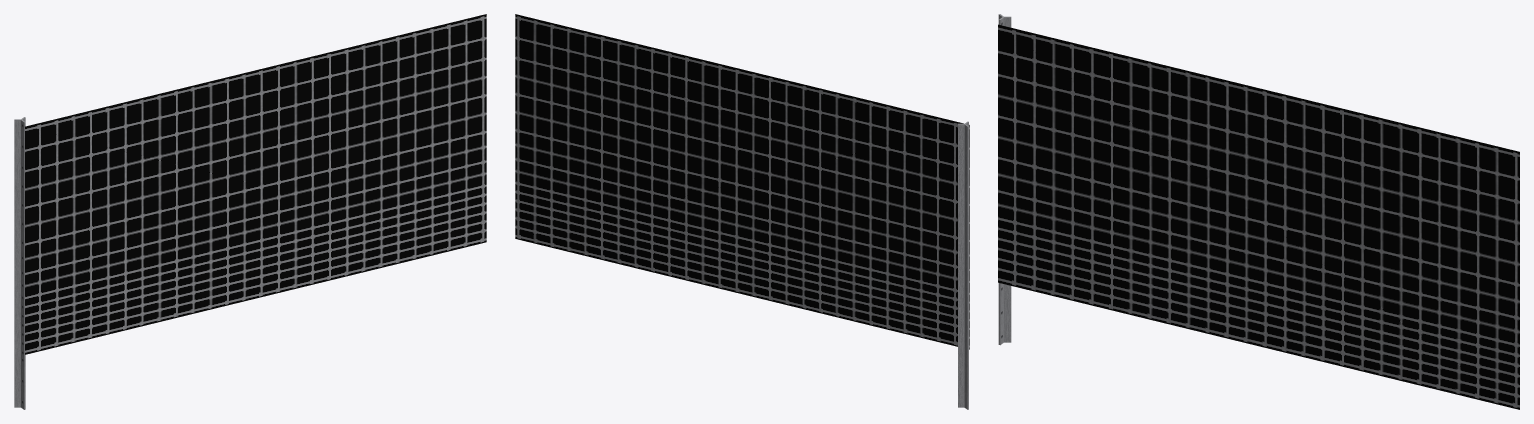
Rendered from fence-tall-mesh-1s-cbj_LOD00.gltf.
3 views of the same model, side by side, from view 1: azimuth 30°, elevation 25°; view 2: azimuth 150°, elevation 25°; view 3: azimuth 330°, elevation 25° (orthographic). The views are drawn at different scales.
Visible parts, largest first — view 1: Cube; view 2: Cube; view 3: Cube.
Part boxes in pixels (bbox=[...]): Cube: bbox=[14, 14, 486, 409]; Cube: bbox=[515, 14, 969, 409]; Cube: bbox=[998, 14, 1519, 409].
Bounding box in the file's own units: 3.96 × 2.33 × 0.0924.
